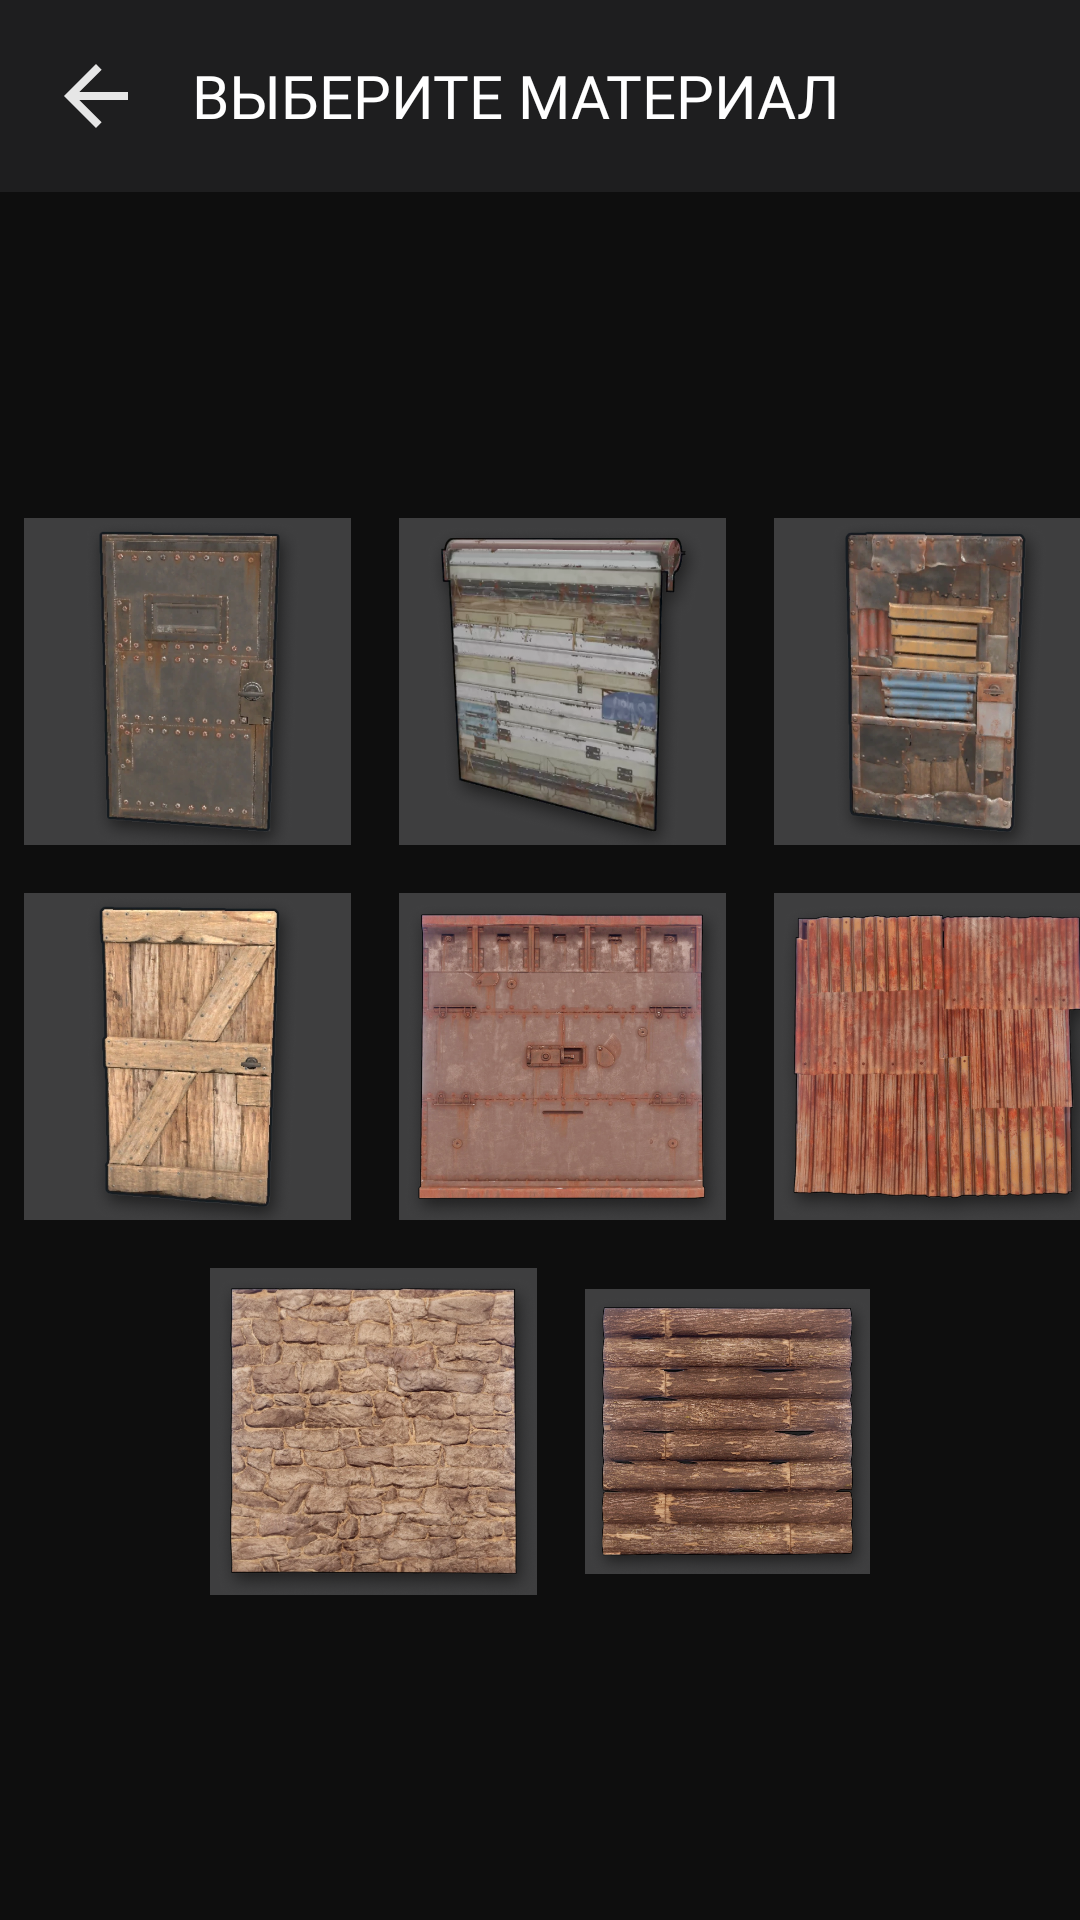

Named icons in this screenshot (1080*1920) and their bounding boxes, [x1,y1,x2,y2]:
arrow back: [64,64,128,128]
garage: [399,518,726,845]
metal: [774,893,1080,1220]
stone: [210,1268,537,1595]
wood: [585,1289,870,1574]
wooddoor: [24,893,351,1220]
